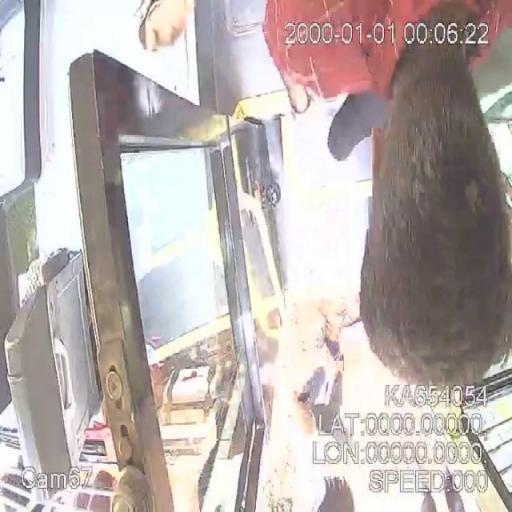persona: (265, 0, 512, 382)
